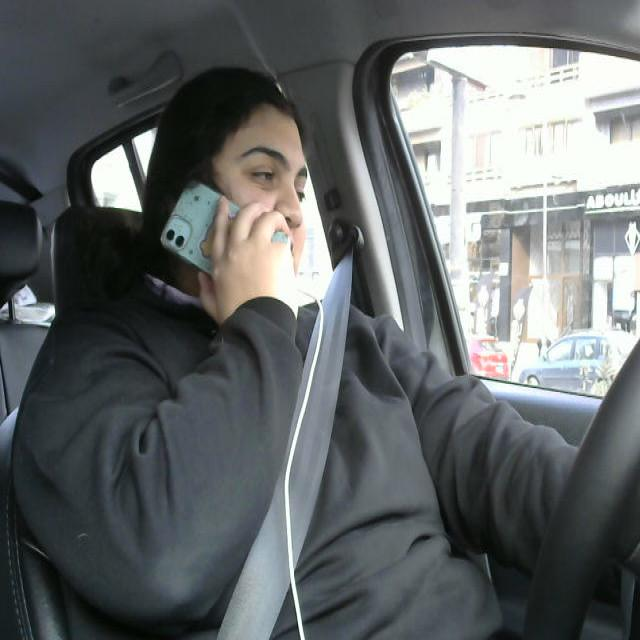mobile use: (158, 182, 294, 303)
